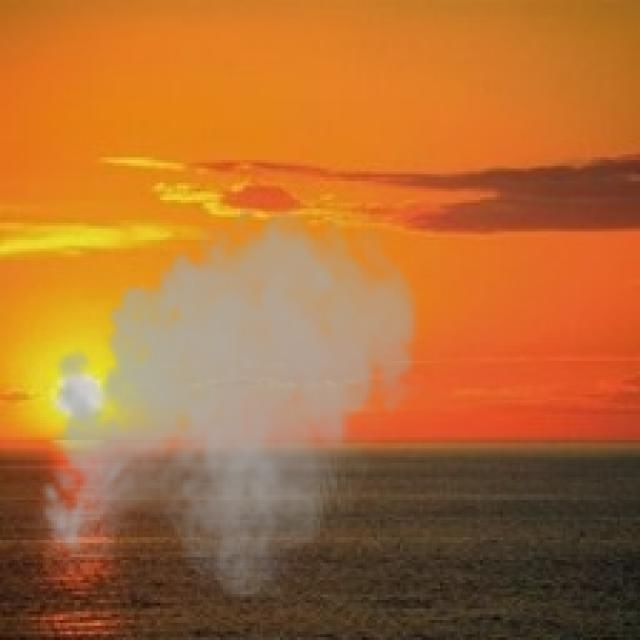Smoke: (29, 197, 428, 600)
